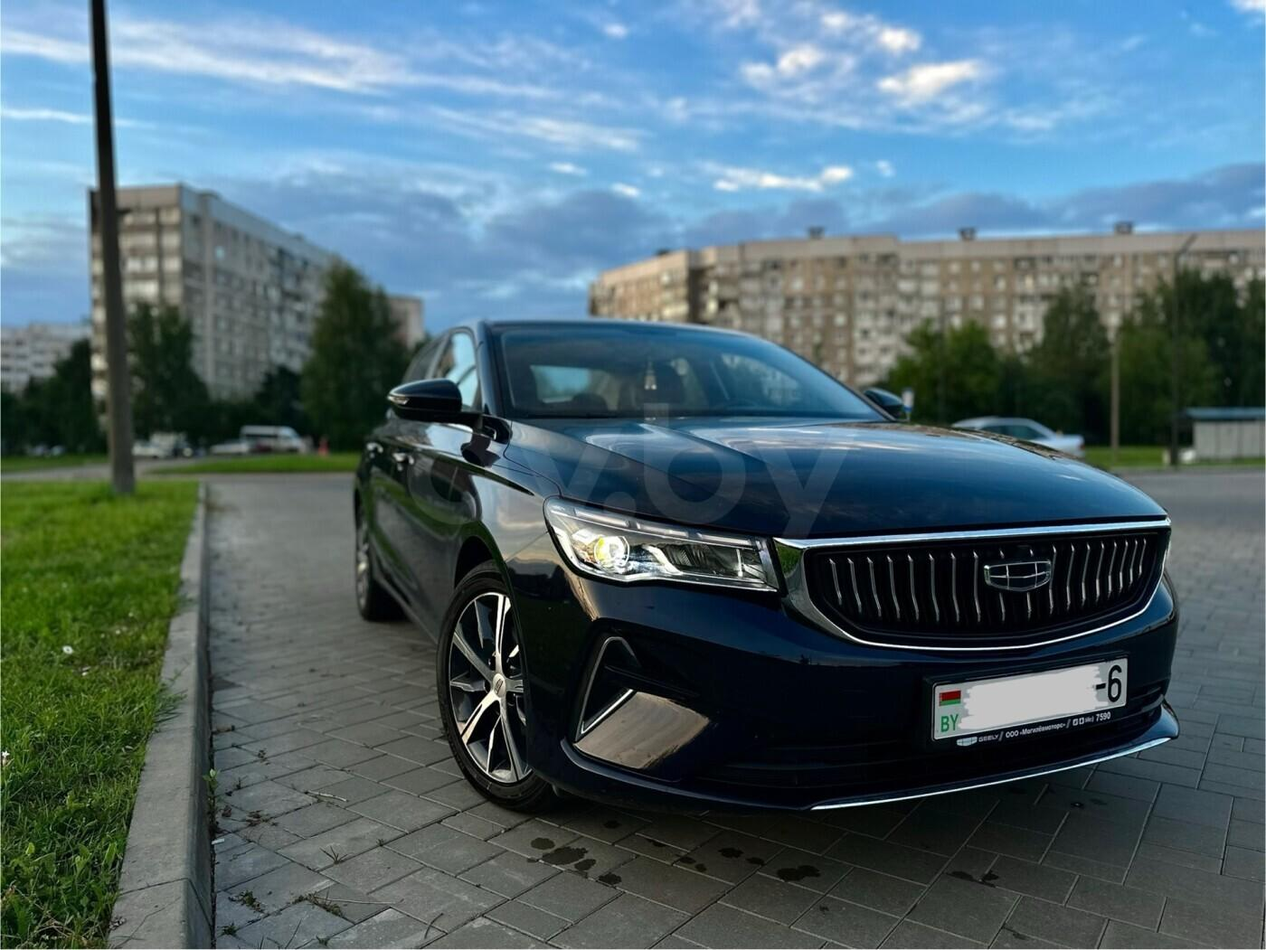Emgrand_2021: (348, 312, 1192, 838)
